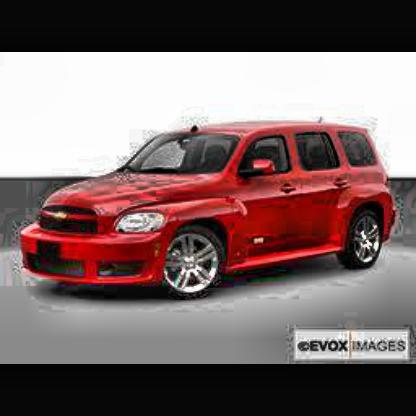Chevrolet HHR SS 2010: (19, 121, 405, 306)
